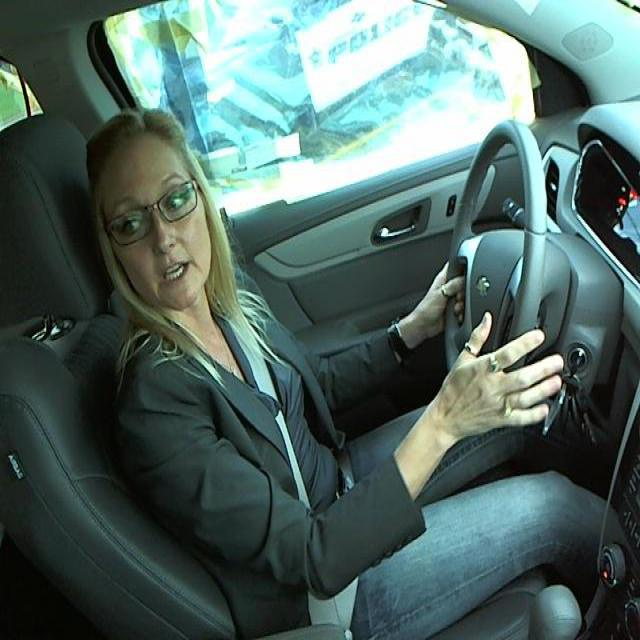seatbelt: (221, 309, 358, 511)
